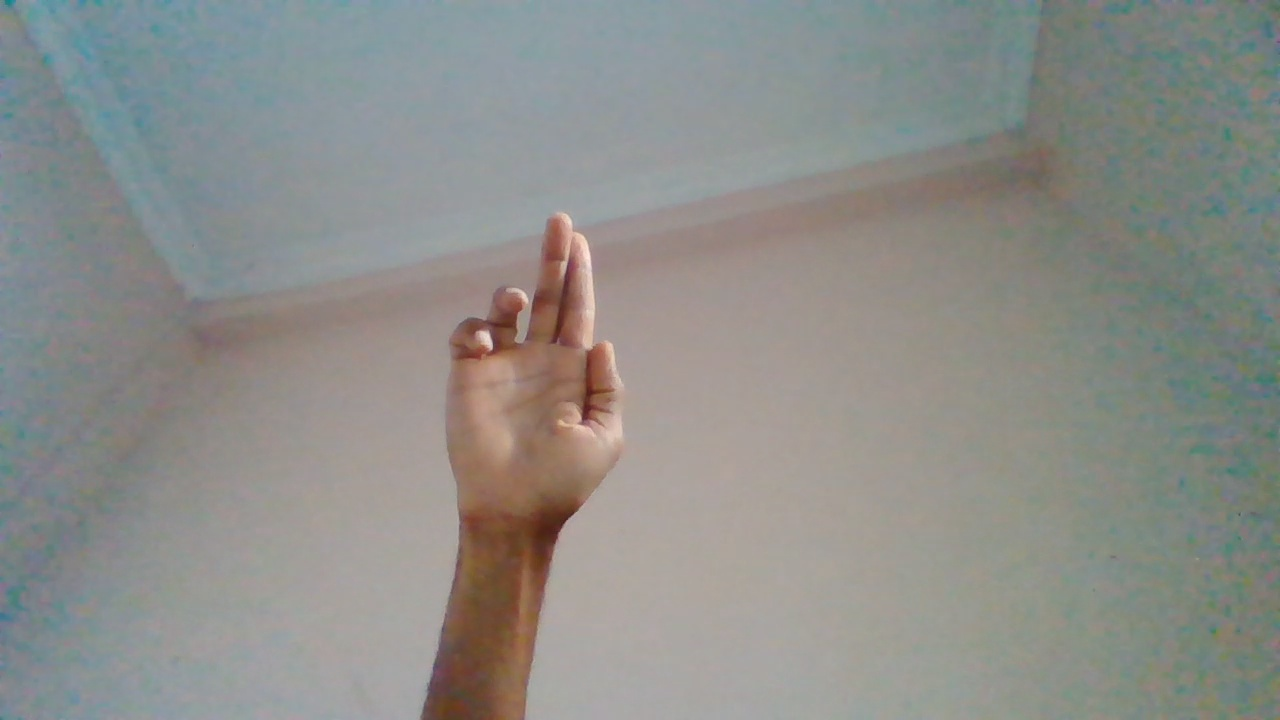gne: (443, 210, 629, 641)
